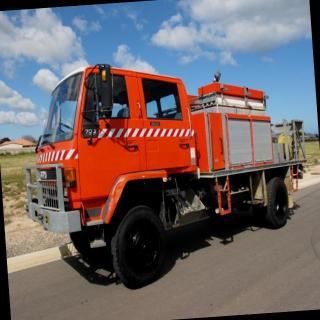Fire_truck: (14, 48, 316, 297)
